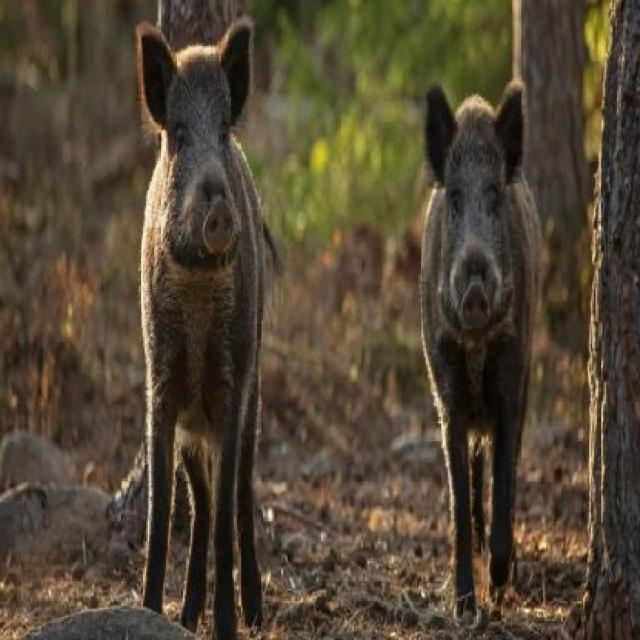wildboar: (134, 17, 269, 640), (418, 75, 540, 640)
